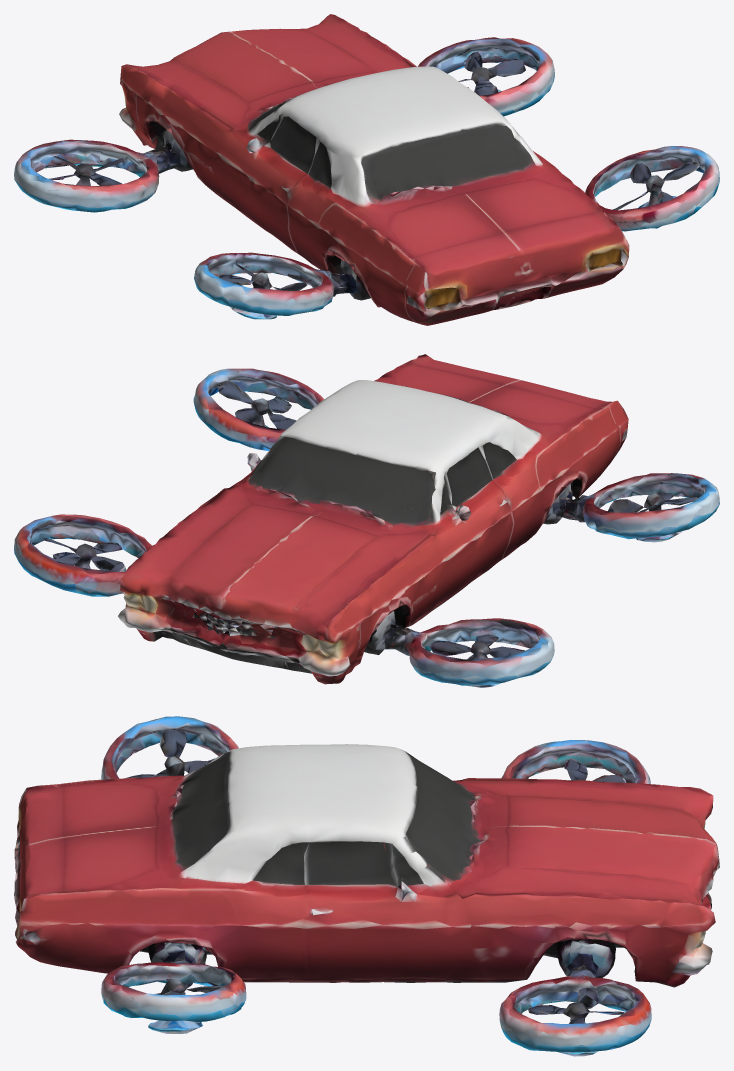
Rendered from main_car.glb.
The picture shows the model from 3 angles, top to bottom: view 1: azimuth 30°, elevation 25°; view 2: azimuth 150°, elevation 25°; view 3: azimuth 270°, elevation 25°; orthographic projection. The views are drawn at different scales.
Parts seen in each view (by area): view 1: player_vehicle; view 2: player_vehicle; view 3: player_vehicle.
Boxes of the visible parts, x1=… form: player_vehicle: x1=14, y1=14, x2=719, y2=325; player_vehicle: x1=14, y1=354, x2=719, y2=687; player_vehicle: x1=14, y1=716, x2=719, y2=1056.
Bounding box in the file's own units: 1.89 × 0.4943 × 1.91.
1 material, 1 textured.
